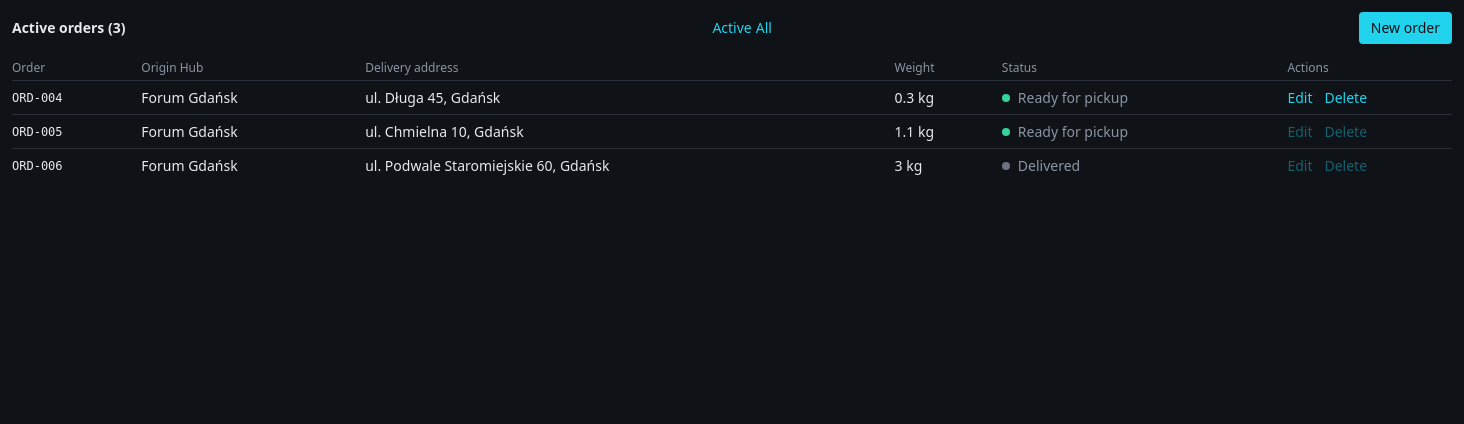
Test: OrdersManager › offers no origin Hub selector when creating, and explains the automatic choice
Click the button "New order" at coordinates (1405, 28), box [1359,12,1452,44]
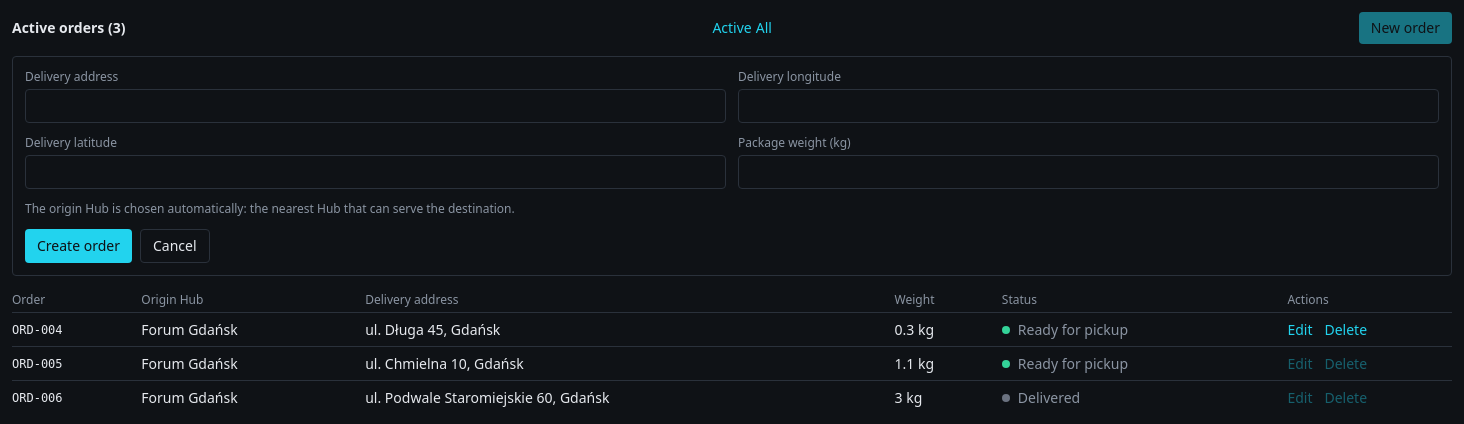
Expected: the text "chosen automatically: the nearest Hub" is shown, [25,200,515,217]
